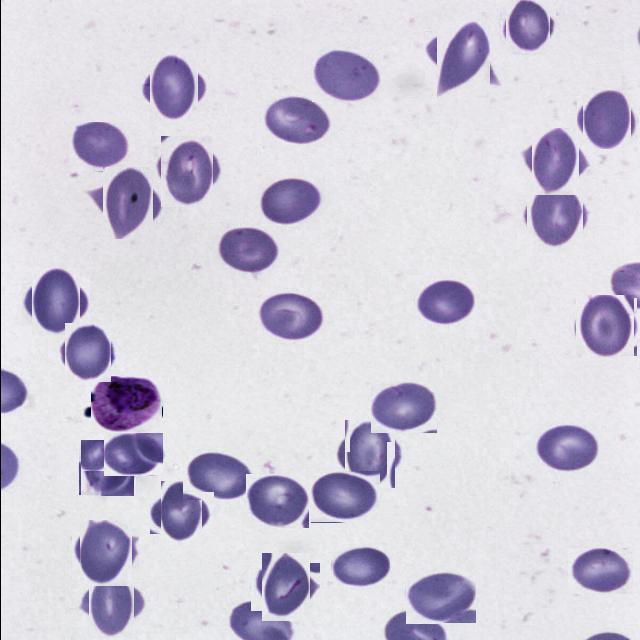red blood cell: (521, 182, 587, 248), (430, 26, 496, 92), (572, 296, 634, 358), (156, 140, 218, 202), (96, 172, 157, 234), (262, 94, 332, 148), (311, 48, 380, 102), (405, 572, 476, 624), (310, 471, 380, 523), (338, 424, 398, 484), (74, 524, 134, 584), (256, 292, 326, 342), (370, 382, 437, 434), (182, 451, 253, 500), (255, 558, 314, 616), (245, 474, 308, 528), (26, 273, 84, 331), (144, 58, 202, 116), (82, 574, 140, 632), (526, 132, 582, 190), (216, 224, 280, 274), (259, 177, 324, 226), (533, 424, 598, 472), (69, 122, 130, 172), (79, 441, 134, 496), (567, 548, 632, 594), (154, 486, 208, 540), (60, 326, 114, 380), (579, 93, 633, 147), (414, 278, 474, 324), (103, 433, 162, 476), (502, 3, 552, 53), (331, 546, 388, 586)
schizont: (90, 376, 162, 434)
